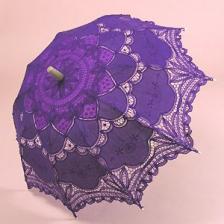purple: (20, 24, 201, 206)
